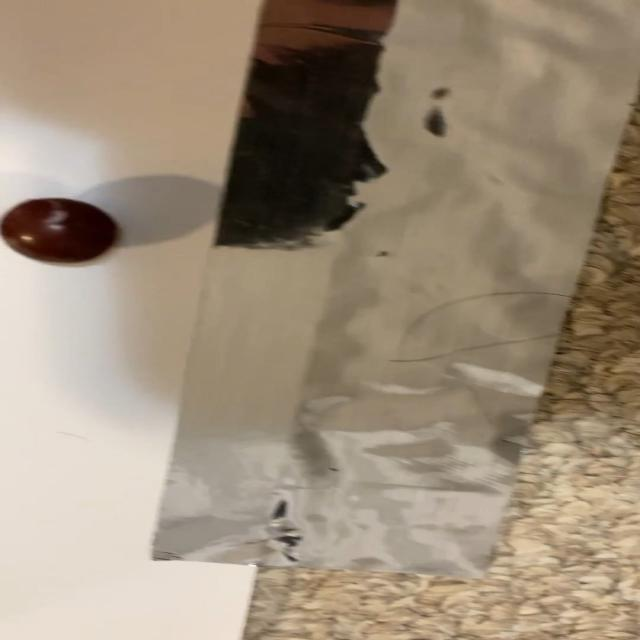smartie: (0, 198, 115, 262)
